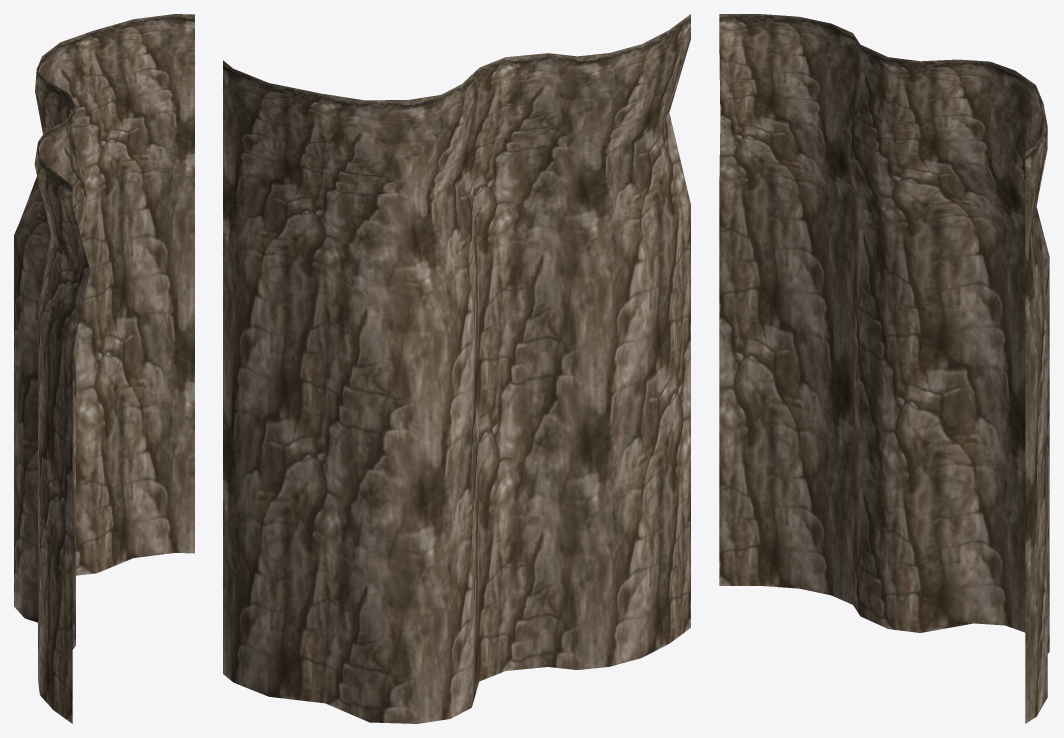
The model's file is OVERHILL_A_01_LINE93.fbx.
The picture shows the model from 3 angles, left to right: view 1: azimuth 30°, elevation 25°; view 2: azimuth 150°, elevation 25°; view 3: azimuth 270°, elevation 25°; orthographic projection. The views are drawn at different scales.
Parts seen in each view (by area): view 1: OVERHILL_A_01_LINE93; view 2: OVERHILL_A_01_LINE93; view 3: OVERHILL_A_01_LINE93.
Part boxes in pixels (bbox=[...]): OVERHILL_A_01_LINE93: bbox=[14, 14, 194, 723]; OVERHILL_A_01_LINE93: bbox=[223, 14, 690, 723]; OVERHILL_A_01_LINE93: bbox=[719, 14, 1049, 723].
Bounding box in the file's own units: 149377 × 285982 × 149770.
Materials: 2 (2 with a texture image).
